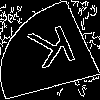K: (25, 24, 84, 79)
